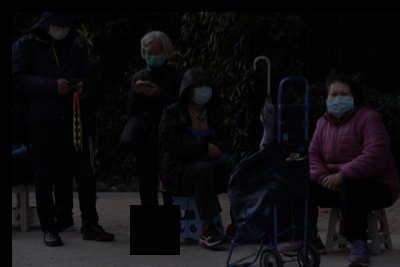with_mask: (324, 87, 356, 120), (192, 82, 214, 105), (48, 20, 72, 40), (145, 46, 165, 67)
